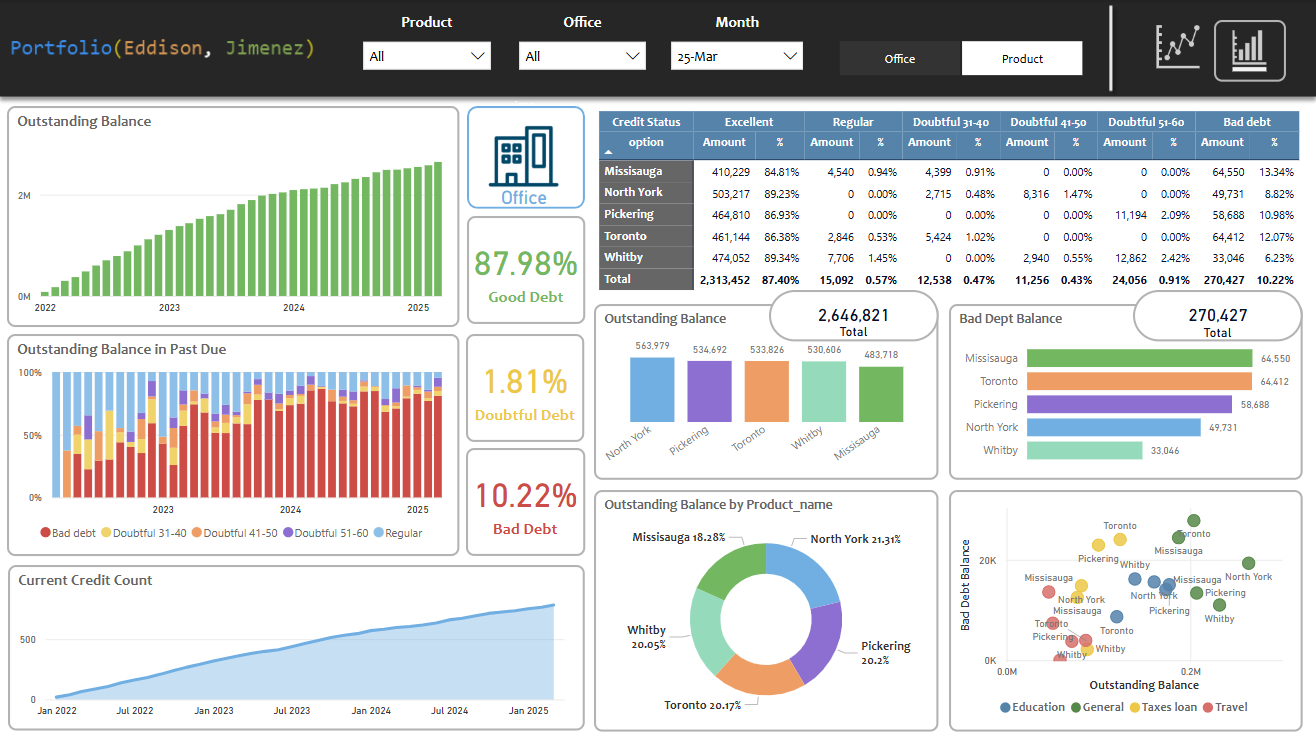

The dashboard page shown, as its layout file describes it:
{"tool":"powerbi","page":{"name":"Gral Analysis","canvas":[1280,720],"ordinal":1},"visuals":[{"type":"pivotTable","fields":{"Rows":["optionData.icon","optionData.option"]},"box":[470.1,89.7,78.5,110.4],"z":0},{"type":"shape","box":[454.6,102.6,114.7,100],"z":1000},{"type":"image","box":[1180.8,19.8,69.9,60.4],"z":2000},{"type":"slicer","title":"Product","fields":{"Values":["products.product_name"]},"box":[343.2,12.8,144,67.1],"z":3000},{"type":"slicer","title":"Office","fields":{"Values":["offices.agency_name"]},"box":[495,12.5,143,67.1],"z":4000},{"type":"image","box":[1110.9,19.8,69.9,51.8],"z":5000},{"type":"clusteredColumnChart","title":"Outstanding Balance","fields":{"Y":["loans_data_filtered.outstanding_balance"],"Category":["loans_data_filtered.cut_text"]},"box":[6.9,102.6,439.9,214.8],"z":6000},{"type":"hundredPercentStackedColumnChart","title":"Outstanding Balance in Past Due","fields":{"Category":["loans_data_filtered.cut_text"],"Y":["loans_data_filtered.outstanding_balance"],"Series":["loans_data_filtered.credit_status"]},"box":[6.9,325.2,439.9,215.6],"z":7000},{"type":"lineChart","title":"Current Credit Count","fields":{"Category":["loans_data_filtered.cut_text"],"Y":["loans_data_filtered.count_records"]},"box":[7.4,549.7,560.7,160.7],"z":8000},{"type":"scatterChart","fields":{"Y":["loans_data_filtered.due_past_balance"],"X":["loans_data_filtered.outstanding_balance"],"Series":["loans_data_filtered.product_name"],"Category":["offices.agency_name"]},"box":[922.9,476.1,344.2,234.6],"z":9000},{"type":"donutChart","title":"Outstanding Balance by Product_name","fields":{"Category":["product_office.option"],"Y":["AAMedidas.balance_option"]},"box":[577.9,476.1,334.7,234.6],"z":10000},{"type":"slicer","title":"Month","fields":{"Values":["date_cut.cut_text"]},"box":[642.6,12.8,148.4,67.3],"z":11000},{"type":"pivotTable","fields":{"Columns":["credit_status.credit_status"],"Rows":["Option_dinamyc.option"],"Values":["AAMedidas.balance_option","Divide(AAMedidas.balance_option, ScopedEval(AAMedidas.balance_option, [Role.Rows]))"]},"box":[577.9,102.6,696.1,194.1],"z":12000},{"type":"card","fields":{"Values":["AAMedidas.Excellent Ratio"]},"box":[454.6,210.5,114.7,105.2],"z":13000},{"type":"card","fields":{"Values":["AAMedidas.Bad Ratio"]},"box":[453.7,435.6,115.6,105.2],"z":14000},{"type":"card","fields":{"Values":["AAMedidas.Doubtful Ratio"]},"box":[453.7,325.2,114.7,105.2],"z":15000},{"type":"clusteredColumnChart","title":"Outstanding Balance","fields":{"Y":["AAMedidas.balance_option"],"Category":["product_office.option"]},"box":[577.9,295.8,334.7,170.8],"z":16000},{"type":"clusteredBarChart","title":"Bad Dept Balance","fields":{"Category":["product_office.option"],"Y":["AAMedidas.due_past_option"]},"box":[922.9,295.8,344.2,170.8],"z":17000},{"type":"slicer","fields":{"Values":["optionData.option"]},"box":[790.9,32.8,286.4,47.4],"z":18000},{"type":"textbox","box":[99.4,99.4,300.6,68.7],"z":19000},{"type":"card","fields":{"Values":["optionData.option"]},"box":[453.3,168.3,112.8,48.6],"z":20000},{"type":"card","title":"Total Amount","fields":{"Values":["AAMedidas.balance_option"]},"box":[748,282.1,165.3,49.6],"z":21000},{"type":"textbox","box":[802.4,306.4,55.4,29.2],"z":22000},{"type":"card","title":"Total Amount","fields":{"Values":["AAMedidas.due_past_option"]},"box":[1102.3,282.3,165.3,49.6],"z":23000},{"type":"textbox","box":[1156.7,307.6,55.4,29.2],"z":24000}]}

Visuals, with their boxes in screenshot pixels (x1, y1, x2, y2), scaled from the page's 1280x720 canvas onto the 1316x740 screenshot:
pivotTable - optionData.icon x optionData.option: (483, 92, 564, 206)
shape: (467, 105, 585, 208)
image: (1214, 20, 1286, 82)
"Product" slicer: (353, 13, 501, 82)
"Office" slicer: (509, 13, 656, 82)
image: (1142, 20, 1214, 74)
"Outstanding Balance" clusteredColumnChart: (7, 105, 459, 326)
"Outstanding Balance in Past Due" hundredPercentStackedColumnChart: (7, 334, 459, 556)
"Current Credit Count" lineChart: (8, 565, 584, 730)
scatterChart - loans_data_filtered.due_past_balance x loans_data_filtered.outstanding_balance: (949, 489, 1303, 730)
"Outstanding Balance by Product_name" donutChart: (594, 489, 938, 730)
"Month" slicer: (661, 13, 813, 82)
pivotTable - credit_status.credit_status x Option_dinamyc.option: (594, 105, 1310, 305)
card - AAMedidas.Excellent Ratio: (467, 216, 585, 324)
card - AAMedidas.Bad Ratio: (466, 448, 585, 556)
card - AAMedidas.Doubtful Ratio: (466, 334, 584, 442)
"Outstanding Balance" clusteredColumnChart: (594, 304, 938, 480)
"Bad Dept Balance" clusteredBarChart: (949, 304, 1303, 480)
slicer - optionData.option: (813, 34, 1108, 82)
textbox: (102, 102, 411, 173)
card - optionData.option: (466, 173, 582, 223)
"Total Amount" card: (769, 290, 939, 341)
textbox: (825, 315, 882, 345)
"Total Amount" card: (1133, 290, 1303, 341)
textbox: (1189, 316, 1246, 346)
